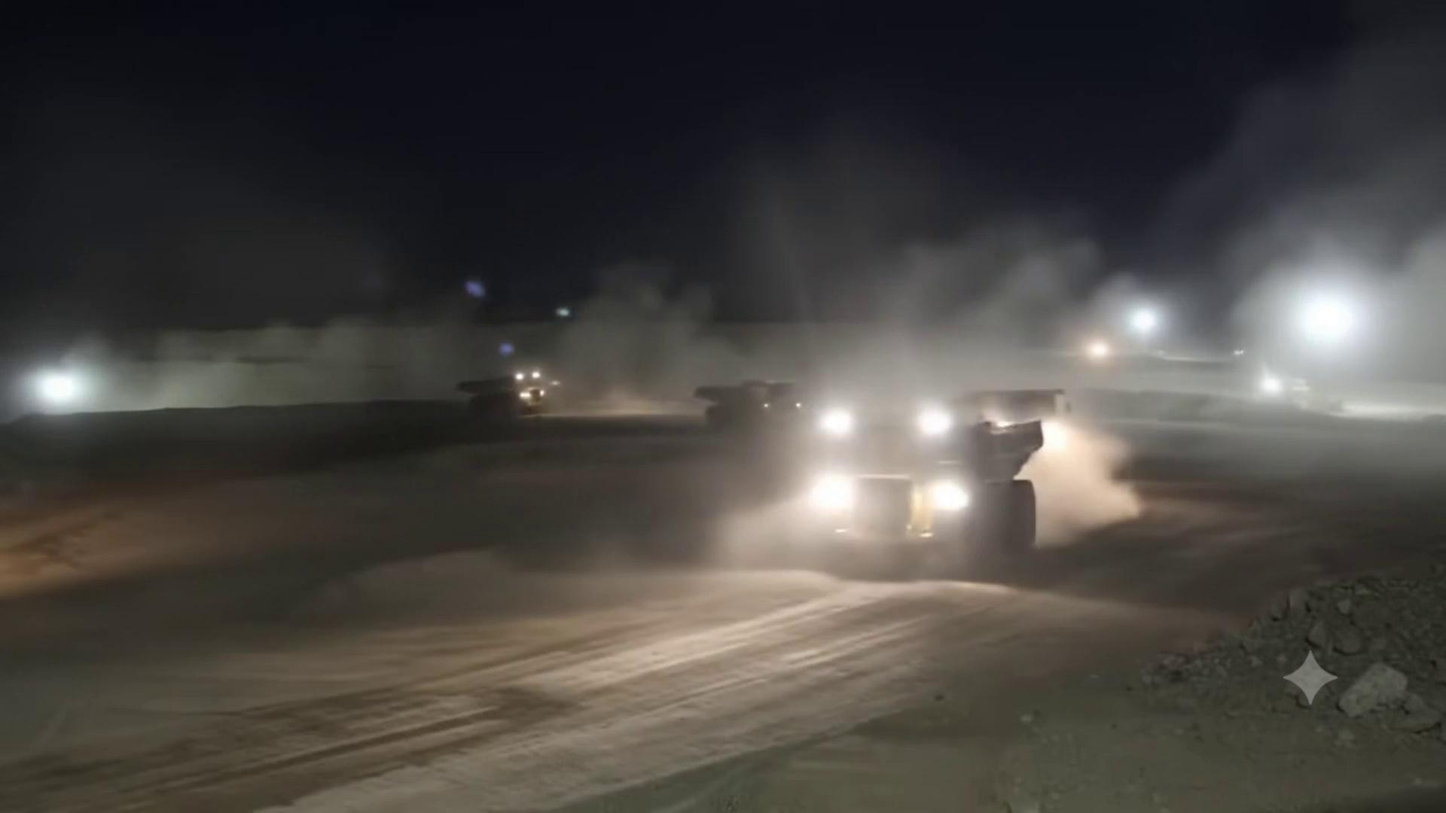CAEX: (790, 388, 1069, 574), (694, 379, 802, 430), (457, 370, 555, 422)
